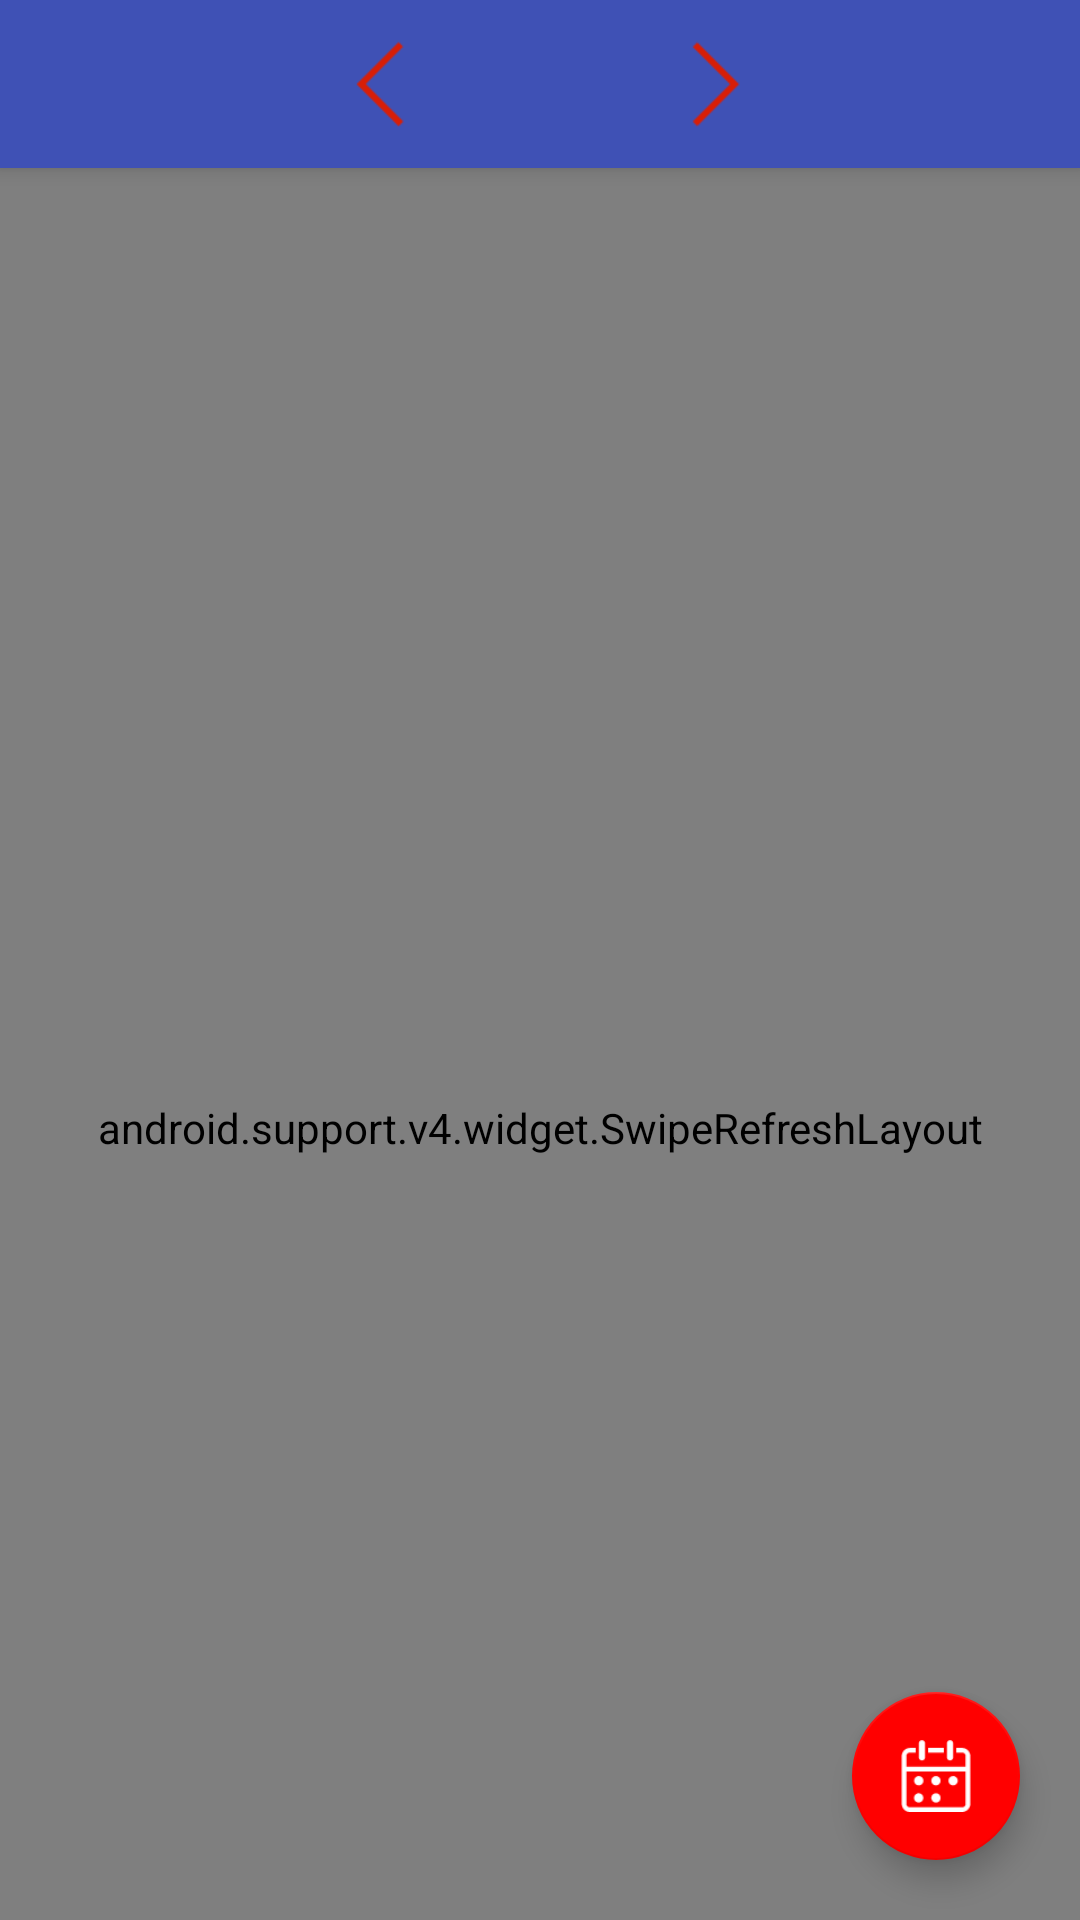

Named icons in this screenshot (1080px x 1920px) and their bounding boxes, region(x1, y1, x2, y2):
calender: region(852, 1692, 1020, 1860)
xiangyou: region(693, 42, 740, 126)
xiangzuo: region(357, 42, 404, 126)
